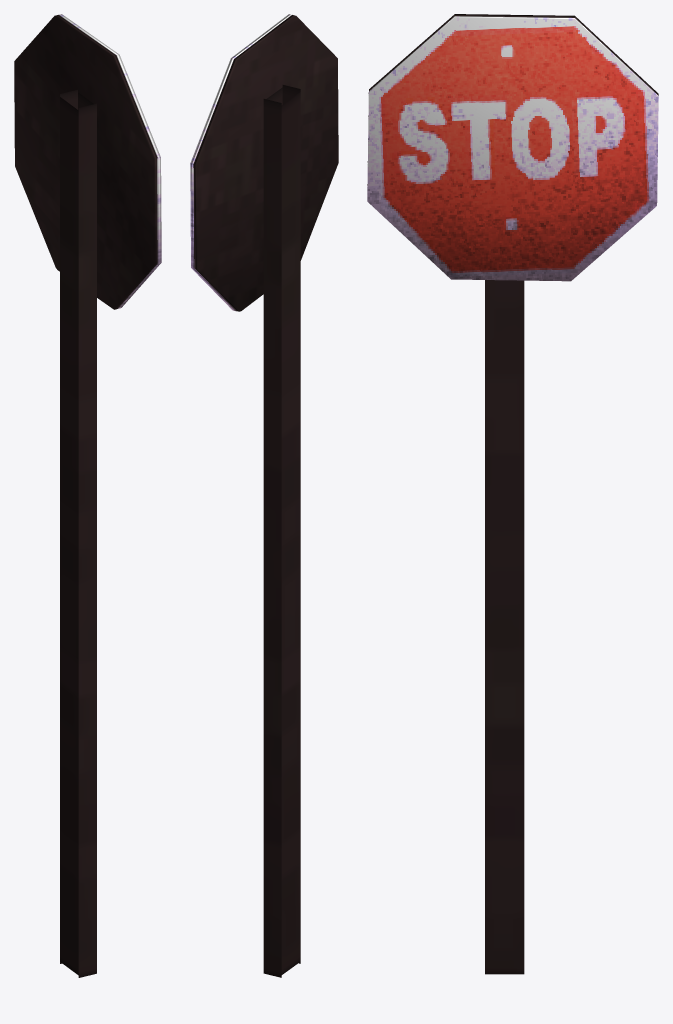
File: BLOCKYGON_STOP SIGN.fbx
3 renders of one model, left to right at view 1: azimuth 30°, elevation 25°; view 2: azimuth 150°, elevation 25°; view 3: azimuth 270°, elevation 25°, orthographic. The views are drawn at different scales.
Visible parts, largest first — view 1: BLOCKYGON_STOP_SIGN; view 2: BLOCKYGON_STOP_SIGN; view 3: BLOCKYGON_STOP_SIGN.
Part boxes in pixels (x1,y1,x2,y2): BLOCKYGON_STOP_SIGN: (14,14,161,977); BLOCKYGON_STOP_SIGN: (190,14,338,977); BLOCKYGON_STOP_SIGN: (367,14,658,974).
Size of the model in its own units: 5.7 by 199 by 52.7.
